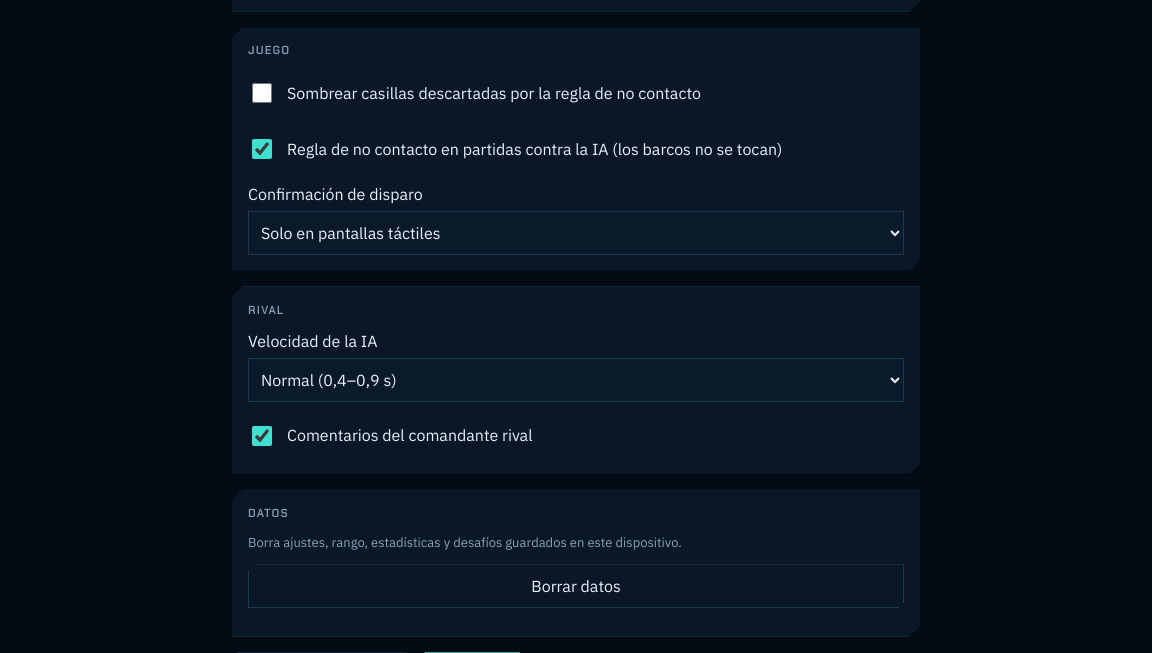
SettingsScreen · data › asks for confirmation before deleting data and can be cancelled
(page scrolled)
Click the button "Borrar datos" at [576, 586], box [248,564,904,608]
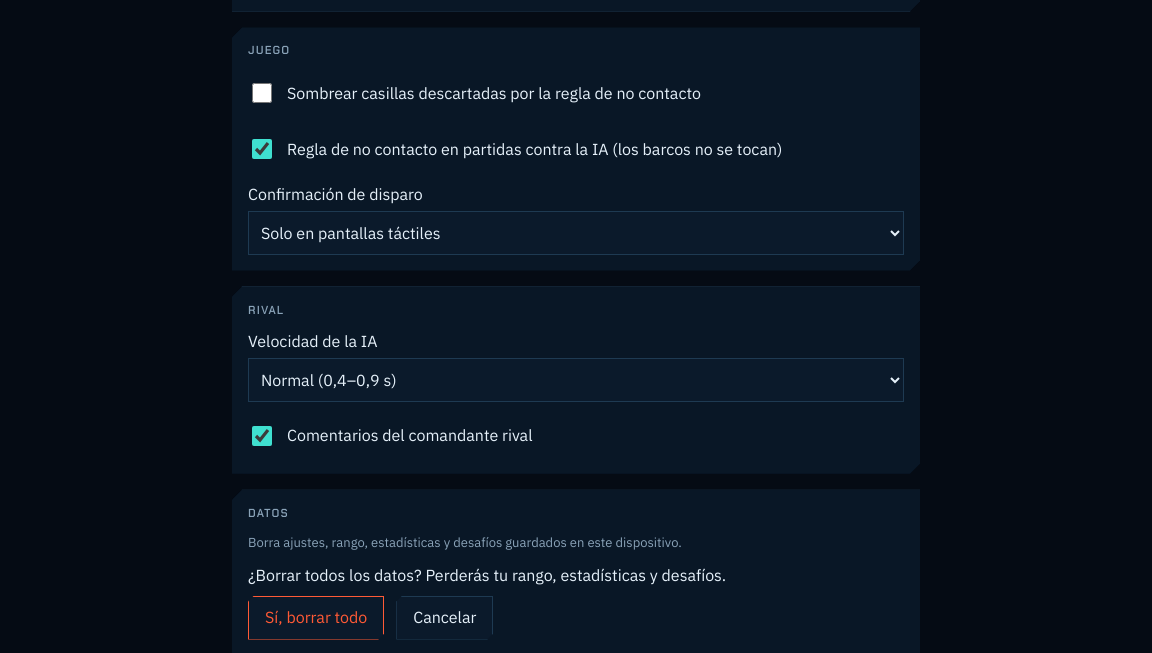
Now the dialog shows "¿Borrar todos los datos?", box [248,565,726,585]
Click the button "Cancelar" at [445, 618], box [396,596,493,640]
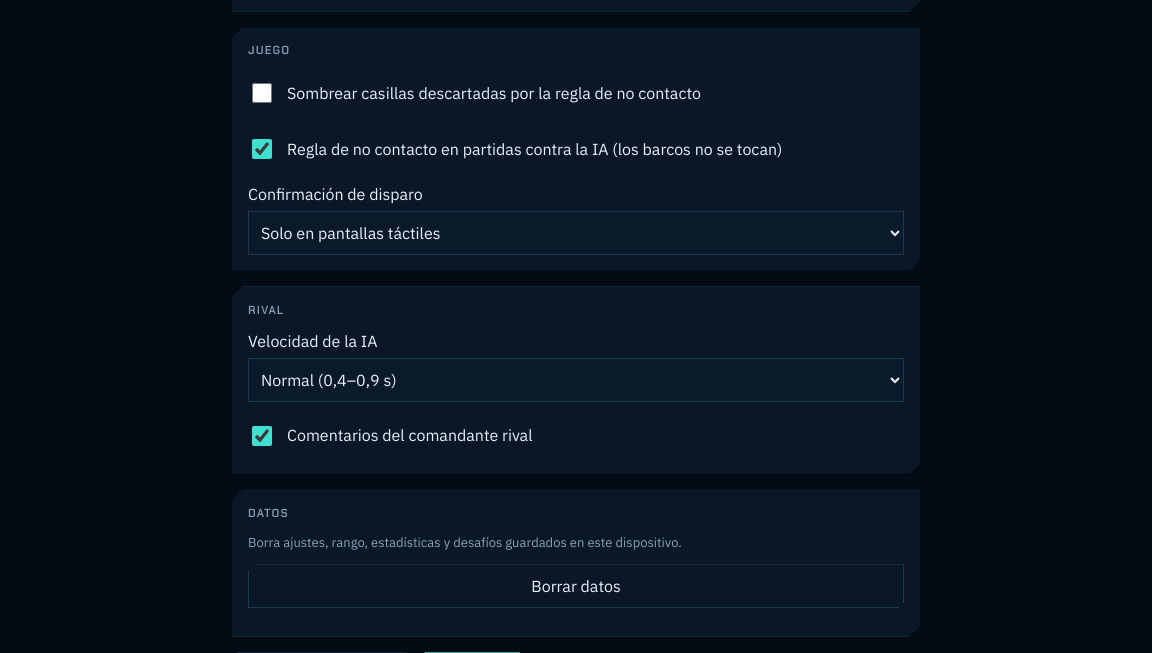
Now the dialog is gone
